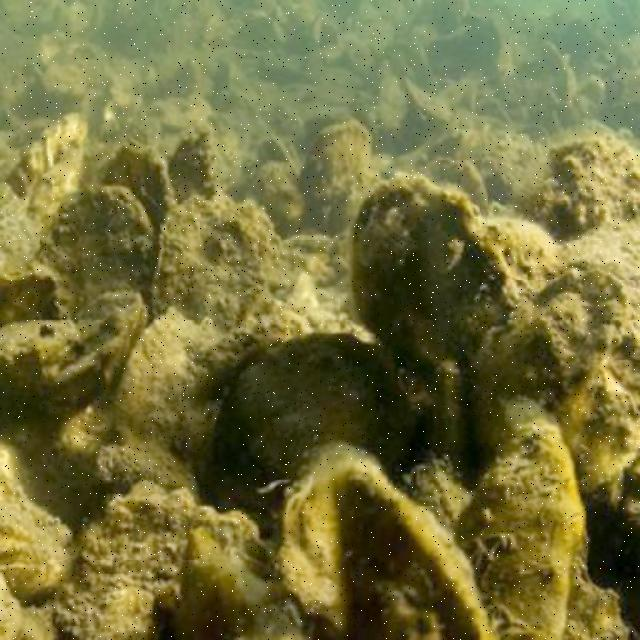Oyster-Closed: (59, 487, 297, 640), (353, 177, 517, 382), (468, 268, 629, 472), (332, 462, 501, 640), (228, 335, 416, 483), (459, 418, 582, 640), (103, 315, 245, 489), (154, 195, 279, 331), (29, 185, 155, 316), (280, 452, 382, 613), (174, 534, 307, 640), (0, 449, 74, 605), (535, 136, 640, 236), (8, 115, 89, 243), (572, 358, 640, 489), (102, 142, 176, 228), (489, 215, 565, 295), (303, 127, 371, 199), (73, 290, 150, 345), (0, 271, 71, 328), (169, 128, 222, 198), (421, 158, 487, 210), (47, 45, 105, 99), (257, 161, 305, 220), (544, 42, 575, 105), (403, 78, 449, 120), (380, 74, 412, 133), (151, 96, 206, 129), (167, 61, 199, 95)
Oyster-Open: (575, 77, 605, 119), (589, 52, 616, 72)
